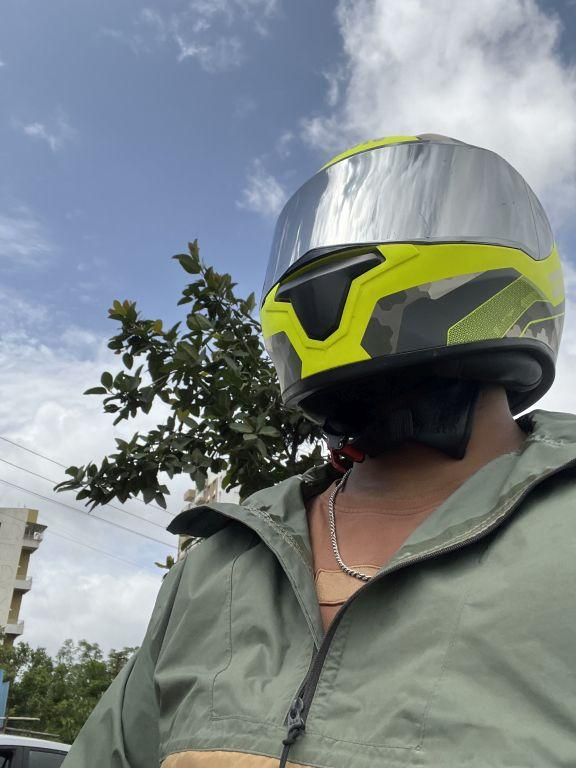helmet: (245, 117, 576, 457)
